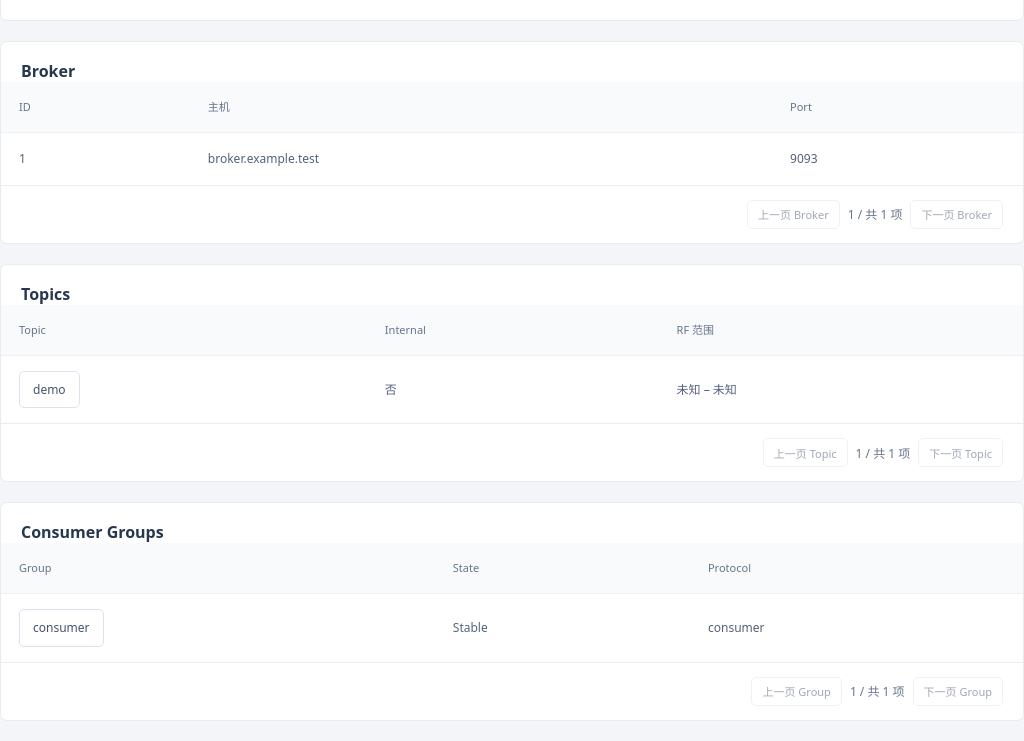
it: shows synthetic provenance, RF/ISR and unknown lag only after group selection
(page scrolled)
What coordinates should you click on to do the following:
click the button "demo"
I would click on:
 (49, 389)
Its box is [19,371,80,408].
(page scrolled)
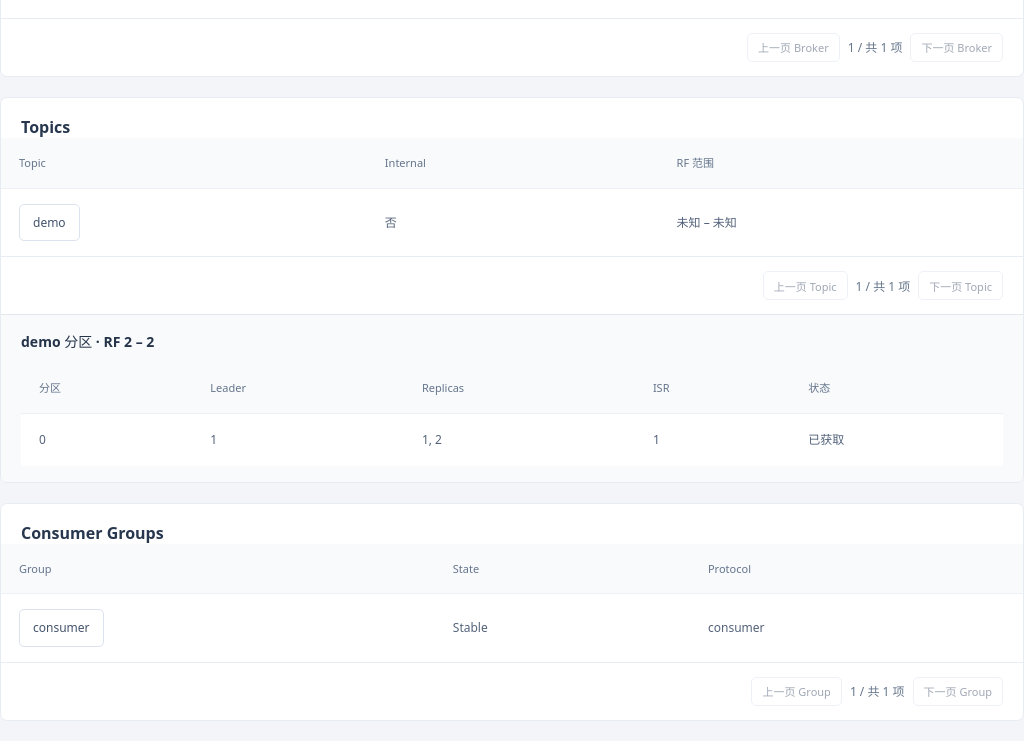
Result: the text "1, 2" is shown at [404,414,635,466]
What coordinates should you click on to do the following:
click the button "consumer"
I would click on:
 (61, 628)
Its box is [19,609,104,647].
(page scrolled)
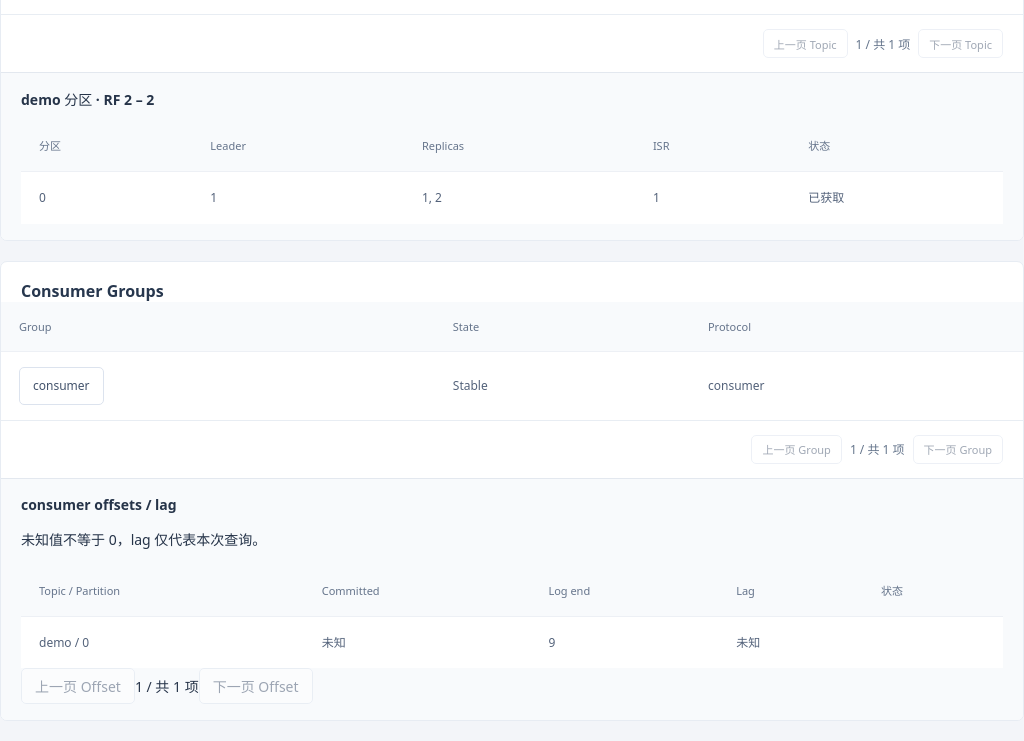
Result: the element that starts with "consumer offsets / lag" shows "未知" at [322,634,346,650]
